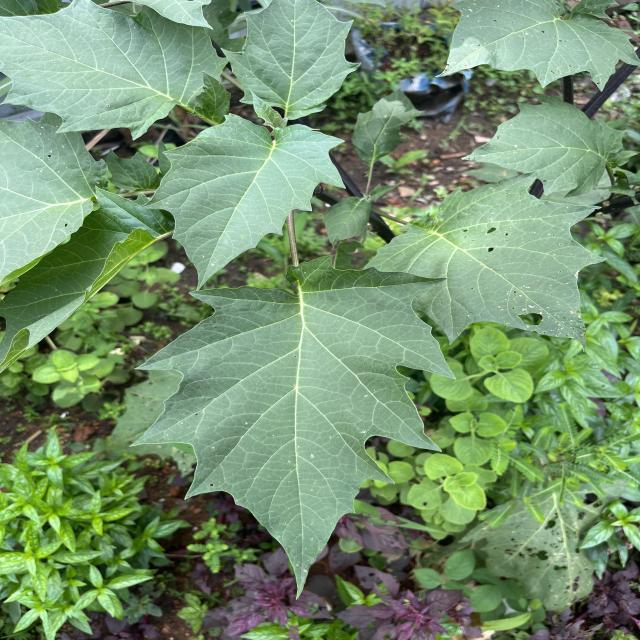Datura metal linn: (123, 250, 460, 604), (364, 166, 610, 355), (138, 111, 348, 290), (458, 91, 630, 200), (216, 0, 364, 123)
